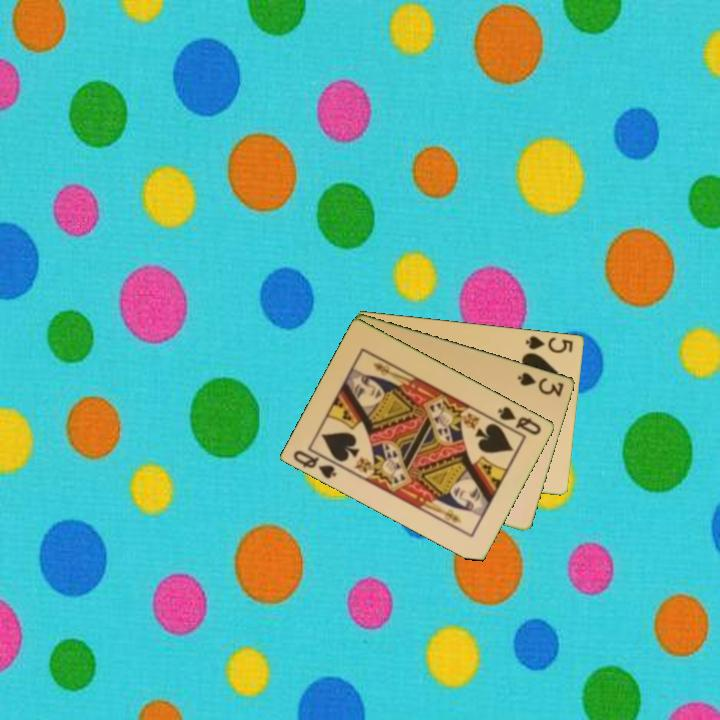3s: (514, 368, 567, 399)
5s: (522, 332, 576, 356)
Qs: (290, 446, 340, 482), (494, 403, 544, 438)
